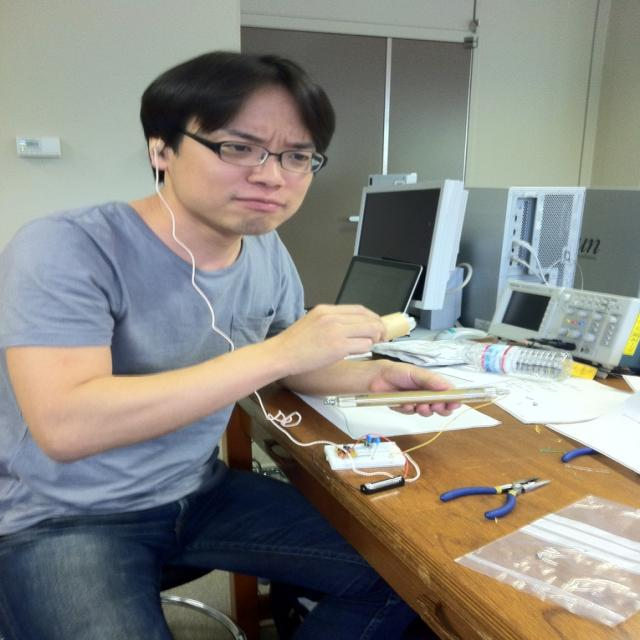desk: (218, 328, 640, 640)
person: (0, 40, 475, 640)
